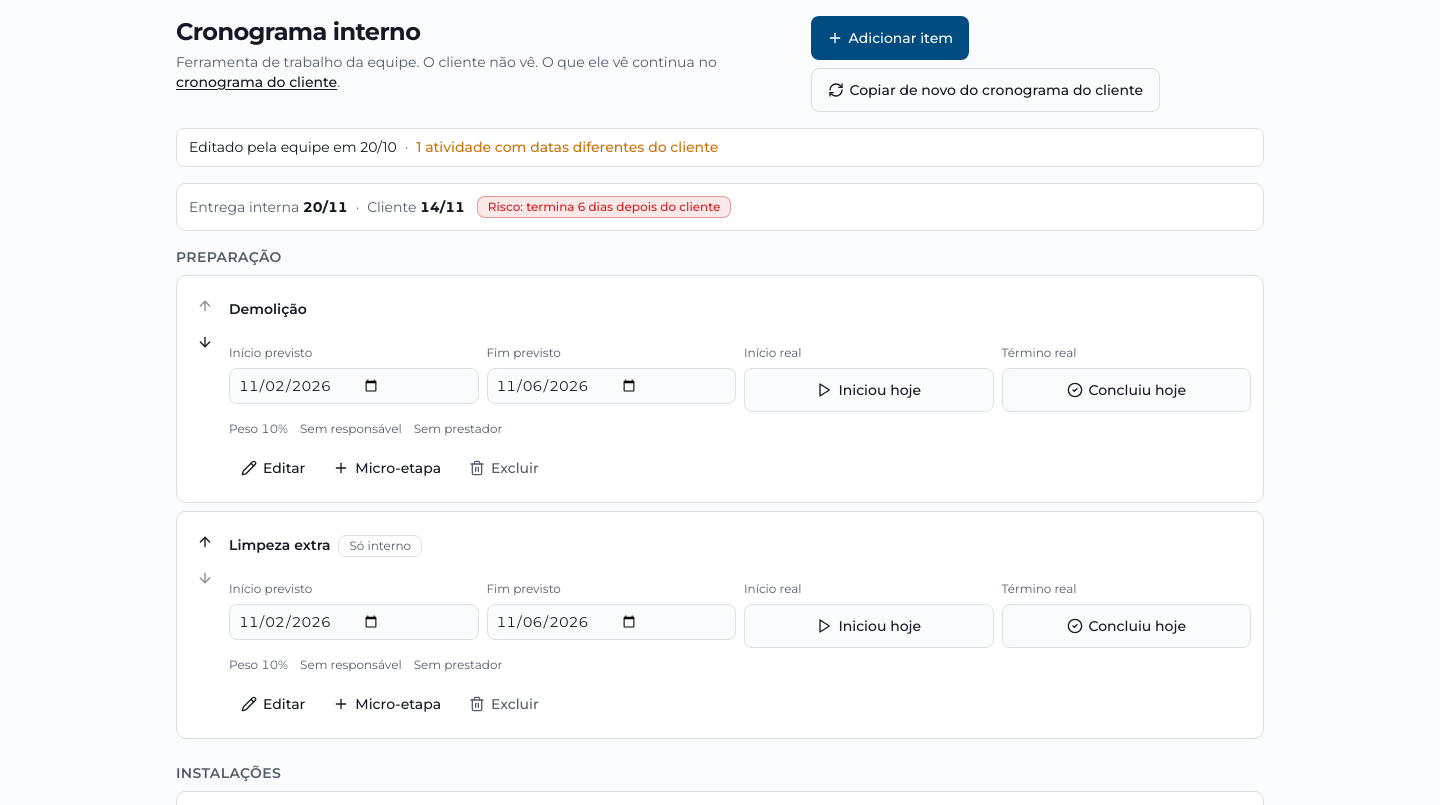
Test: Cronograma interno › 'Copiar de novo' só substitui depois de confirmar, explicando o que acontece
The width and height of the screenshot is (1440, 805).
Later steps or results of the test are not shown.
Click the button "Copiar de novo do cronograma do cliente". click: (985, 90)
box: [810, 68, 1160, 112]
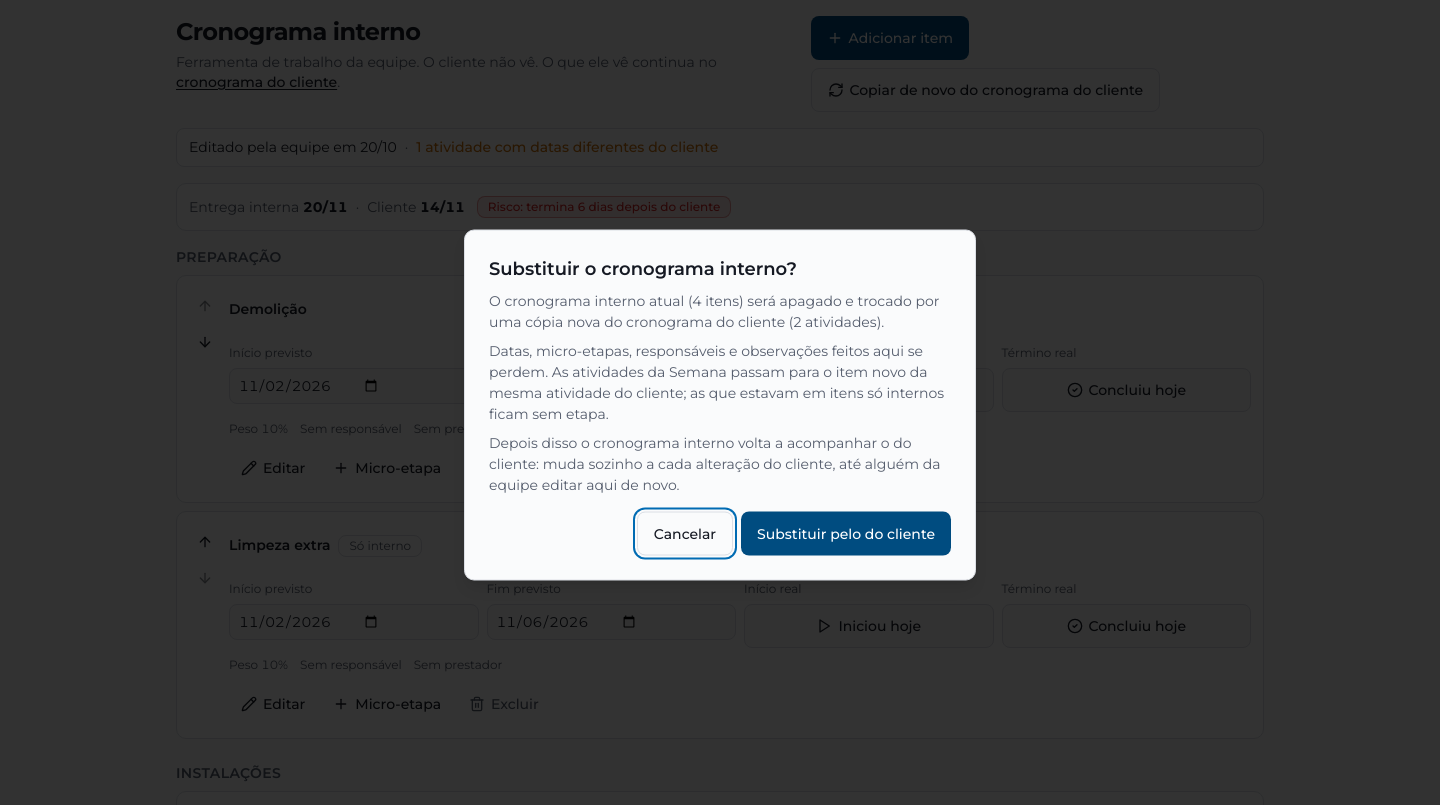
Expected: the dialog shows "será apagado e trocado por uma cópia nova", [489, 292, 939, 330]
Expected: the dialog shows "As atividades da Semana passam para o item novo", [489, 342, 944, 422]
Expected: the dialog shows "as que estavam em itens só internos ficam sem etapa", [489, 342, 944, 422]
Click the button "Cancelar". click: (685, 534)
box: [637, 512, 733, 556]
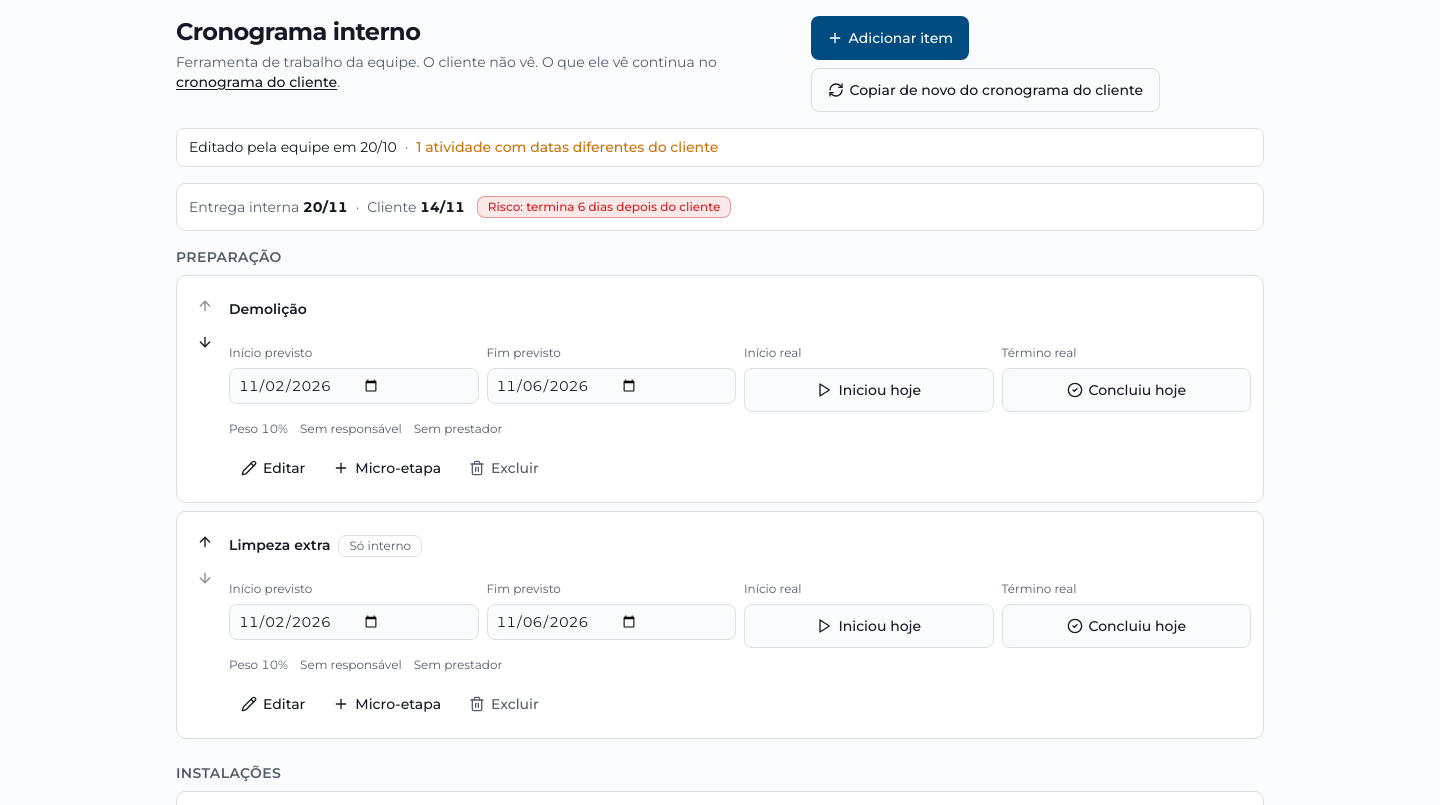
Expected: the dialog is gone
